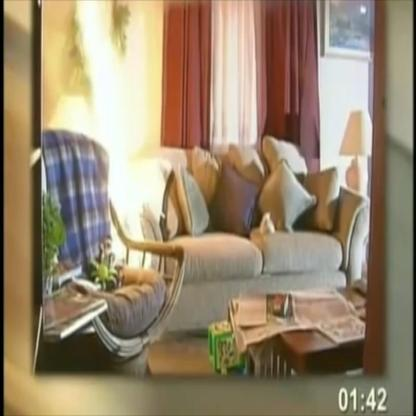fire: (72, 2, 152, 267)
